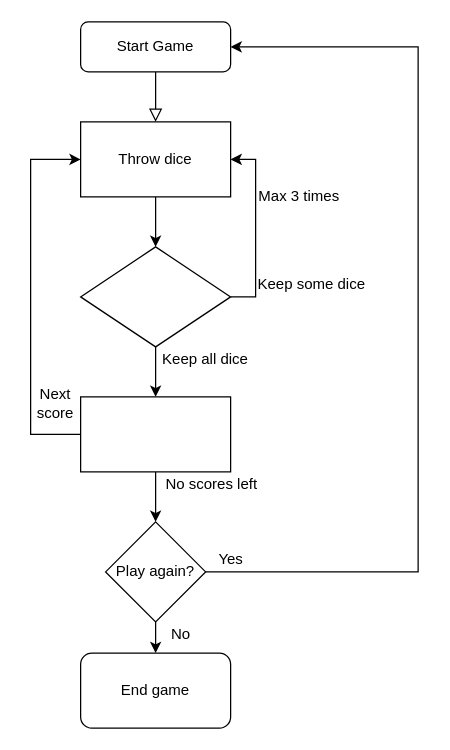
Some shapes in this 450 by 750 pixel diagram are drawn without their labels. Here are the shapes that lost their labels. From the top down, the centre of each, then its label:
[155,296]: choose dice to keep
[155,434]: Dice displayed on score
